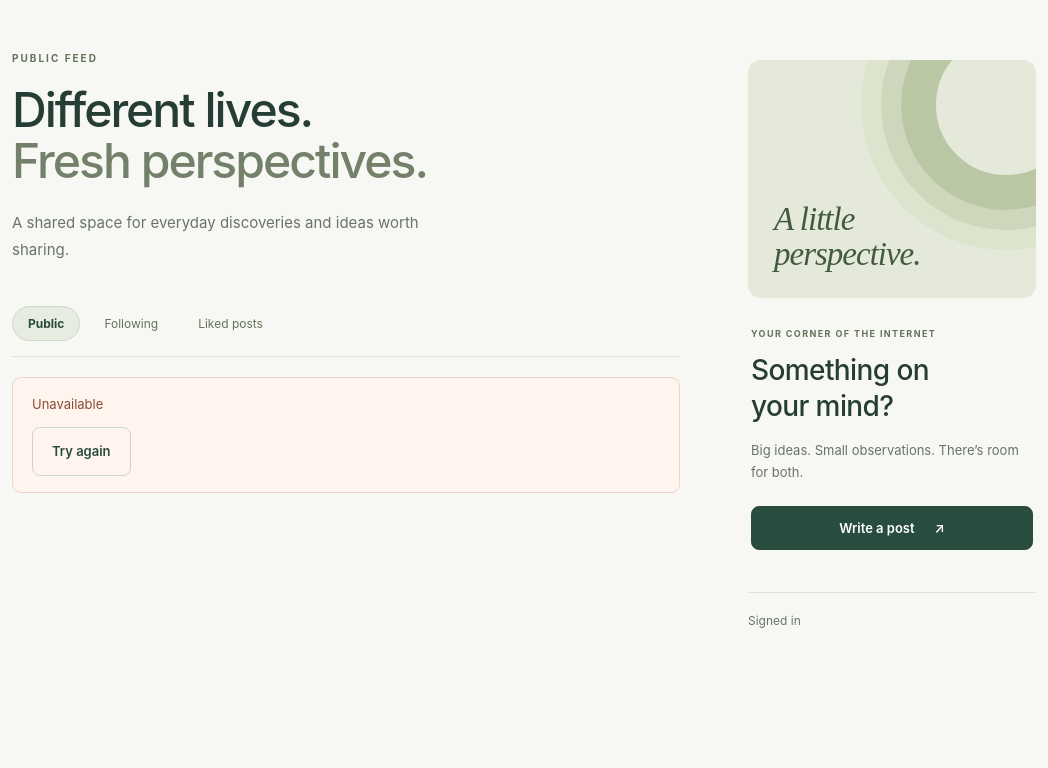
Test case: feed shows loading, error, retry, empty states and compose action
Later steps or results of the test are not shown.
Expected: the message shows "Unavailable", x1=32 y1=396 x2=103 y2=412
Click the button "Try again" at (81, 451), box x1=32 y1=427 x2=131 y2=476
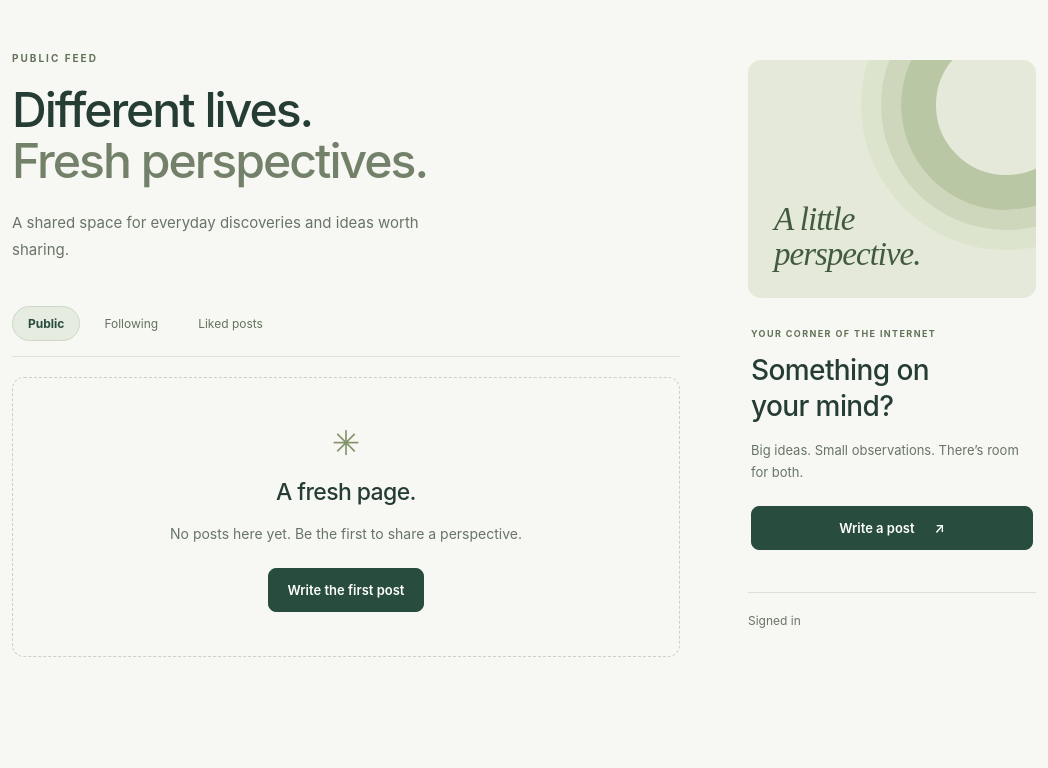
Result: the heading "A fresh page." is shown at x1=276 y1=478 x2=416 y2=506
Click the button "Write the first post" at (346, 590), box x1=268 y1=568 x2=424 y2=612
Click the button "Following" at (131, 324), box x1=88 y1=306 x2=174 y2=341
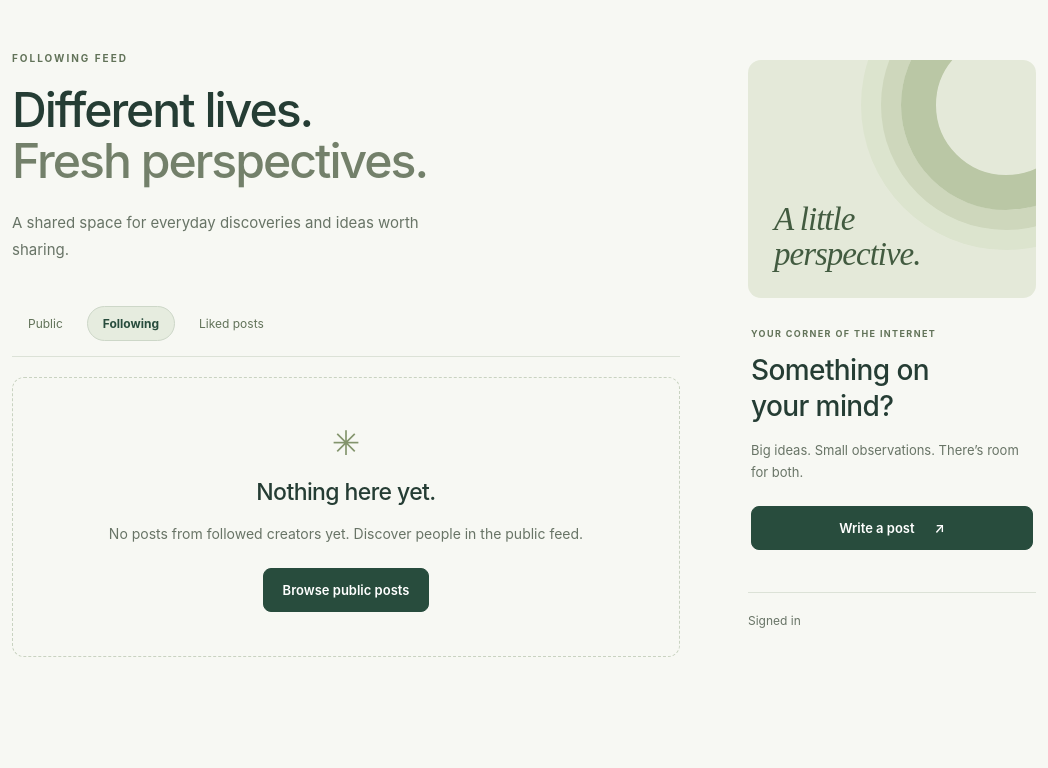
Result: the text "No posts from followed creators" is shown at x1=109 y1=525 x2=583 y2=542
Click the button "Liked posts" at (231, 324), box x1=183 y1=306 x2=280 y2=341
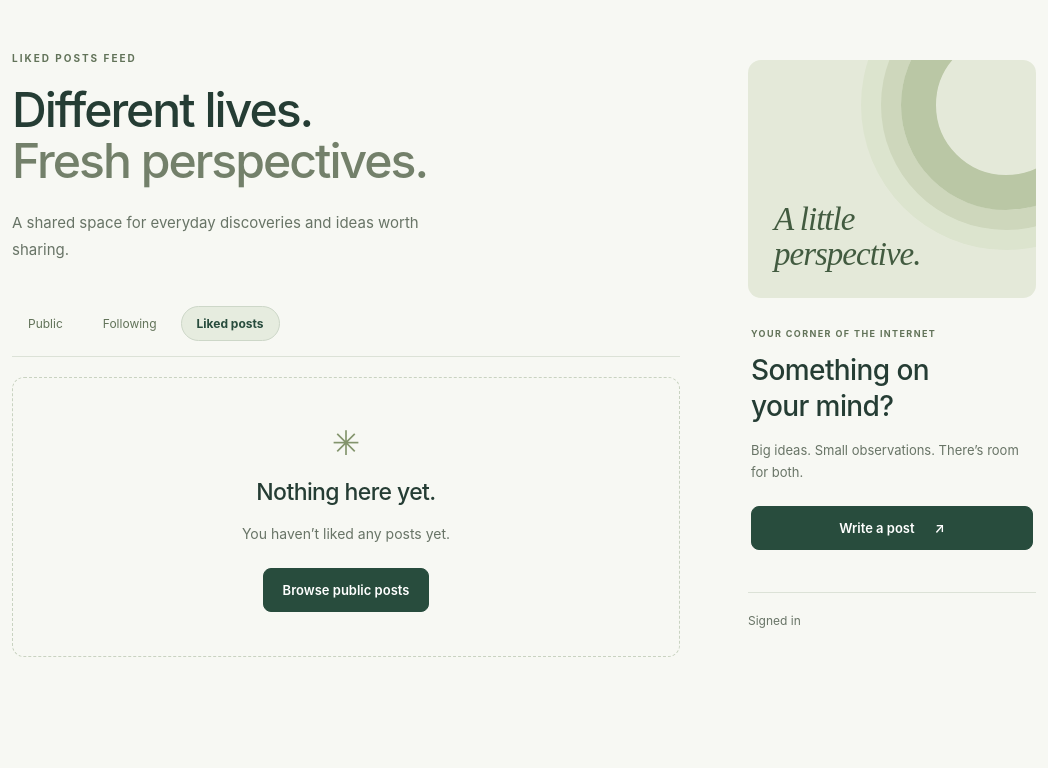
Result: the text "You haven’t liked any posts yet." is shown at x1=242 y1=525 x2=450 y2=542
Click the button "Browse public posts" at (346, 590), box x1=263 y1=568 x2=429 y2=612
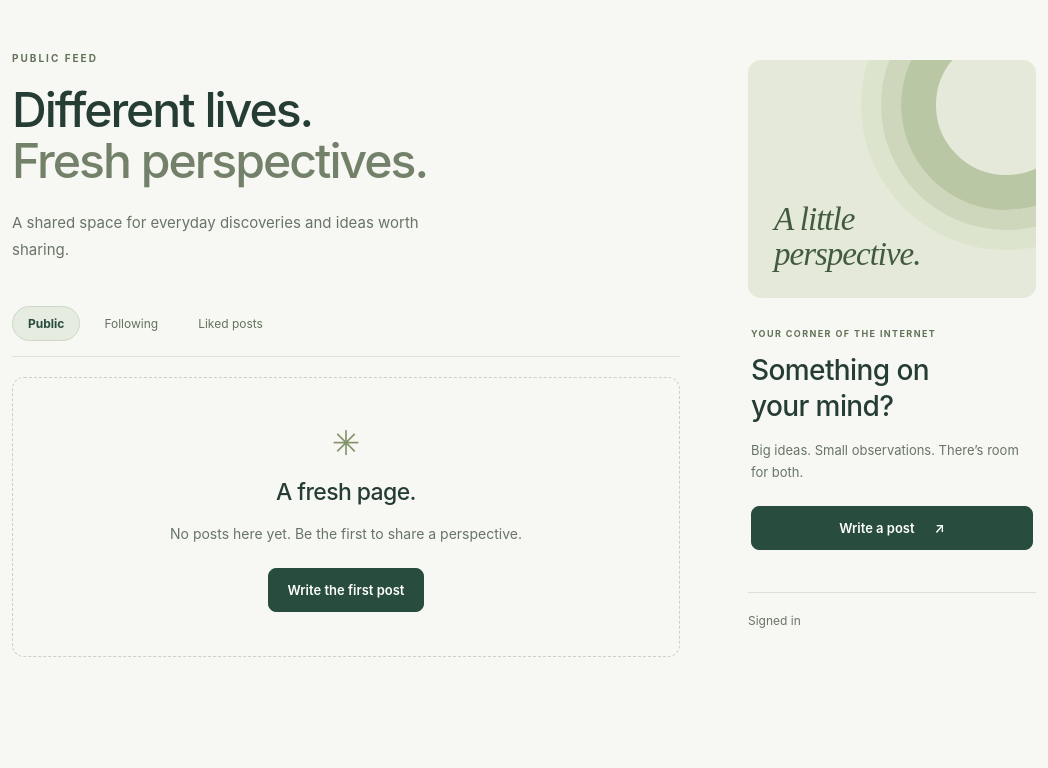
Result: the heading "A fresh page." is shown at x1=276 y1=478 x2=416 y2=506
